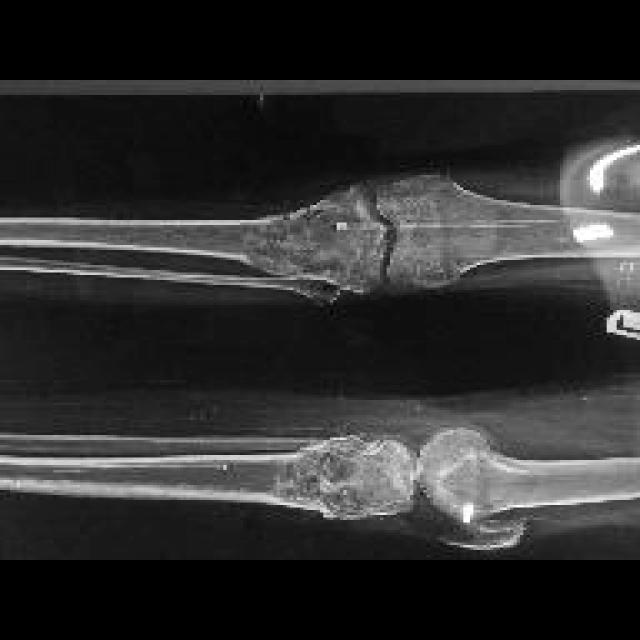bone-cancer: (245, 193, 397, 292), (276, 438, 415, 519)
